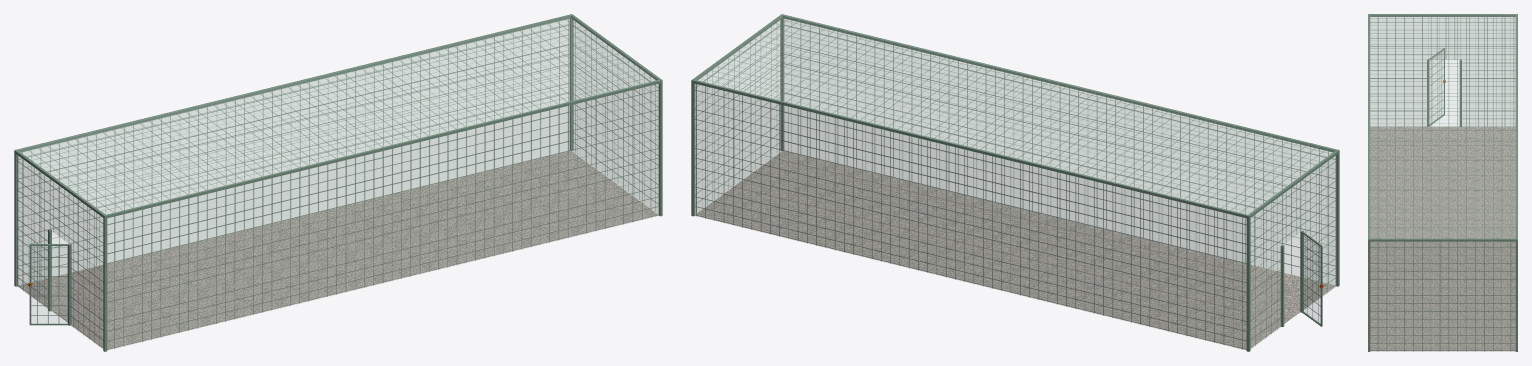
Rendered from poi07_invernadero_nave1_preview.glb.
The picture shows the model from 3 angles, left to right: view 1: azimuth 30°, elevation 25°; view 2: azimuth 150°, elevation 25°; view 3: azimuth 270°, elevation 25°; orthographic projection. The views are drawn at different scales.
Visible parts, largest first — view 1: envolvente_malla_sombra, techo_plano_malla_sombra, piso_grava, vigas_perimetrales, puerta_P1, eje_V1, eje_V2, eje_V3, eje_V4; view 2: envolvente_malla_sombra, techo_plano_malla_sombra, piso_grava, vigas_perimetrales, puerta_P1, eje_V4, eje_V3, eje_V1, eje_V2; view 3: techo_plano_malla_sombra, piso_grava, envolvente_malla_sombra, vigas_perimetrales, puerta_P1, eje_V2, eje_V3, eje_Pb, eje_Pa.
Part boxes in pixels (x1,y1,x2,y2): envolvente_malla_sombra: (17, 19, 659, 349); techo_plano_malla_sombra: (18, 16, 658, 214); piso_grava: (18, 151, 658, 349); vigas_perimetrales: (15, 14, 661, 218); puerta_P1: (28, 244, 68, 325); eje_V1: (103, 215, 107, 351); eje_V2: (658, 79, 662, 216); eje_V3: (569, 14, 573, 150); eje_V4: (14, 149, 17, 286); envolvente_malla_sombra: (694, 19, 1336, 349); techo_plano_malla_sombra: (696, 15, 1334, 214); piso_grava: (695, 151, 1335, 349); vigas_perimetrales: (692, 14, 1338, 218); puerta_P1: (1302, 231, 1323, 326); eje_V4: (1246, 215, 1250, 351); eje_V3: (691, 80, 695, 216); eje_V1: (1335, 149, 1339, 286); eje_V2: (780, 14, 784, 150); techo_plano_malla_sombra: (1369, 14, 1516, 238); piso_grava: (1370, 127, 1515, 350); envolvente_malla_sombra: (1370, 17, 1515, 351); vigas_perimetrales: (1368, 14, 1517, 241); puerta_P1: (1428, 48, 1445, 126); eje_V2: (1368, 238, 1370, 351); eje_V3: (1515, 238, 1517, 351); eje_Pb: (1459, 59, 1461, 126); eje_Pa: (1427, 59, 1429, 126).
Bounding box in the file's own units: 19.03 × 4.2 × 5.08.
Materials: 5 (2 with a texture image).
